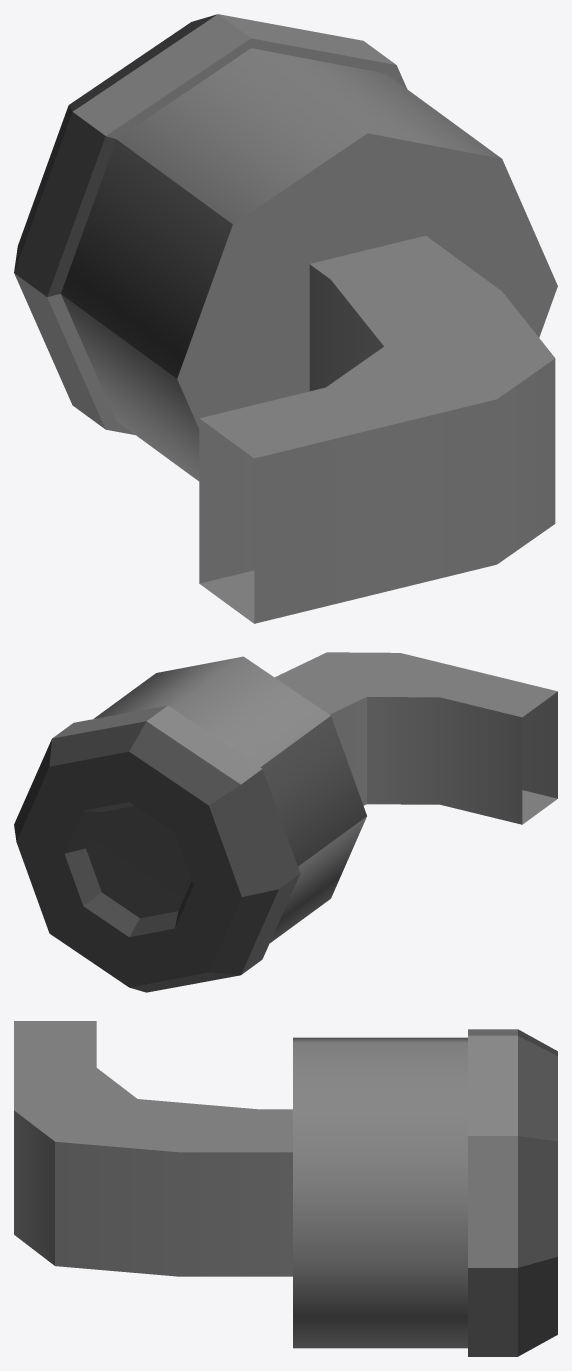
Rendered from rod_consol.FBX.
3 renders of one model, top to bottom at view 1: azimuth 30°, elevation 25°; view 2: azimuth 150°, elevation 25°; view 3: azimuth 270°, elevation 25°, orthographic. The views are drawn at different scales.
Visible parts, largest first — view 1: rod_consol; view 2: rod_consol; view 3: rod_consol.
Part boxes in pixels (left/top/right/bottom): rod_consol: left=14, top=14, right=557, bottom=623; rod_consol: left=14, top=652, right=557, bottom=992; rod_consol: left=14, top=1021, right=557, bottom=1356.
Size of the model in its own units: 4.66 by 3.7 by 5.8.
